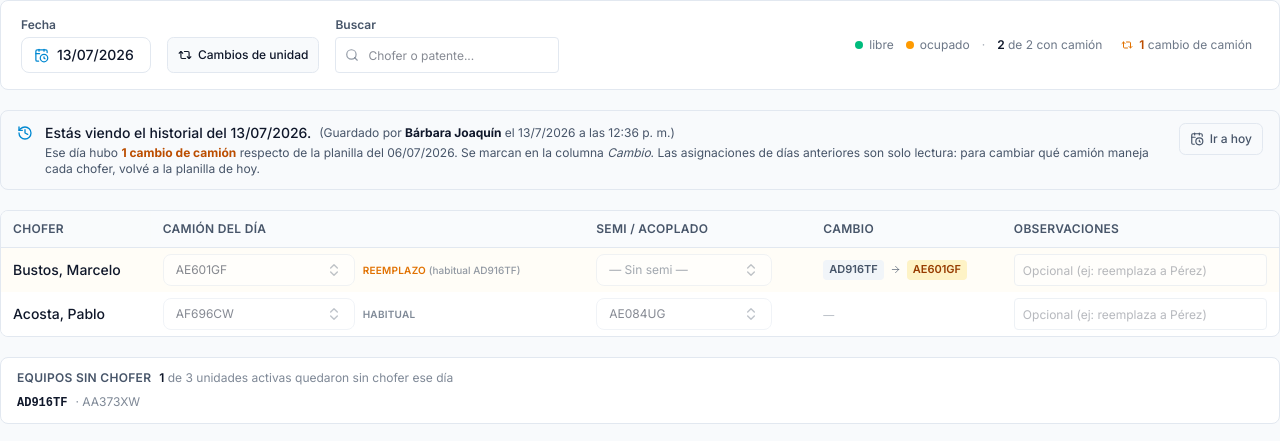
Test: PlanillaDiariaClient · marca de cambio de camión › deja apagar el filtro aunque ya no queden cambios
This screenshot has width=1280, height=441.
Click the button titled "Ver solo los que cambiaron": click(1187, 45) [1114,34,1259,56]
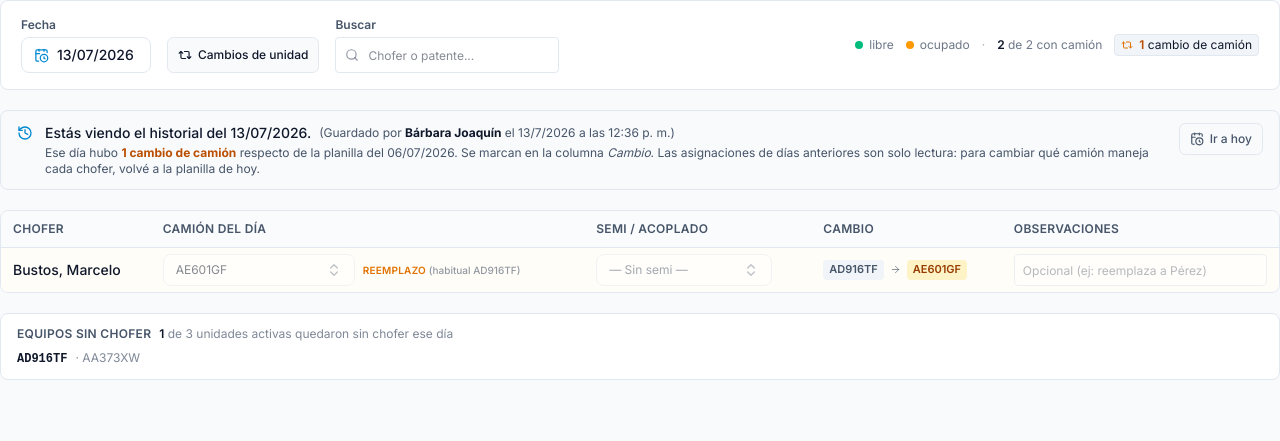
Expected: the text "Acosta," is gone
Click the button titled "Ver todos los choferes": click(1187, 45) [1114,34,1259,56]
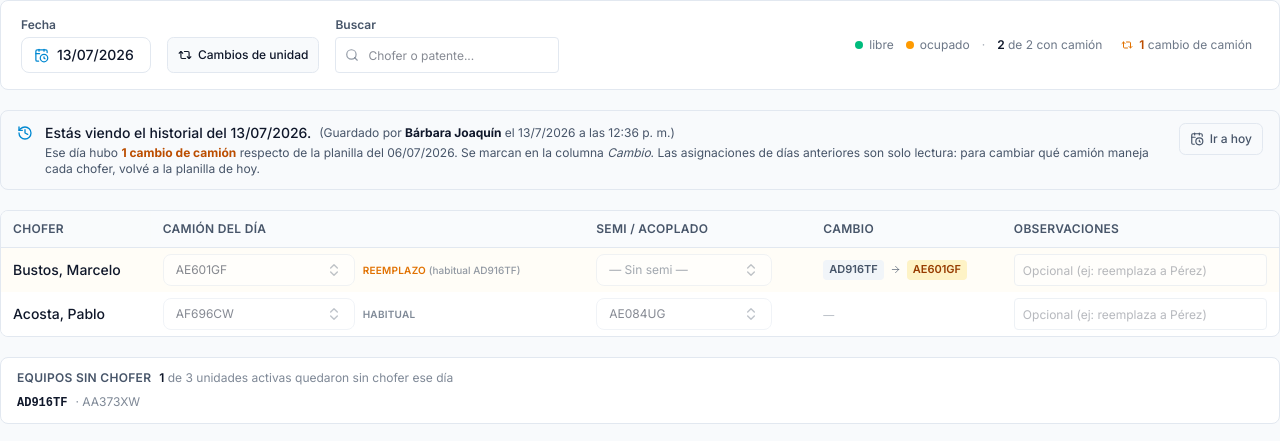
Expected: the text "Acosta, Pablo" is shown, [13,305,105,322]
